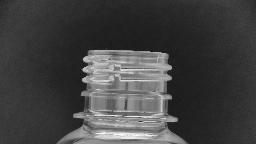No Cap: (68, 46, 182, 126)
